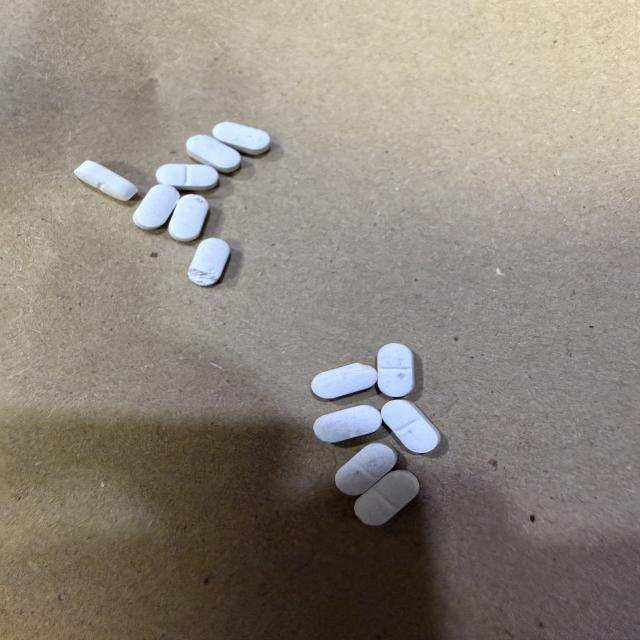pill: (355, 470, 419, 525), (336, 443, 397, 495), (381, 400, 439, 453), (74, 160, 137, 200), (314, 405, 381, 442), (312, 364, 377, 398), (186, 135, 240, 173), (133, 185, 179, 229), (188, 238, 229, 286), (377, 344, 413, 397), (213, 122, 270, 155), (169, 194, 208, 241), (156, 164, 218, 190)
